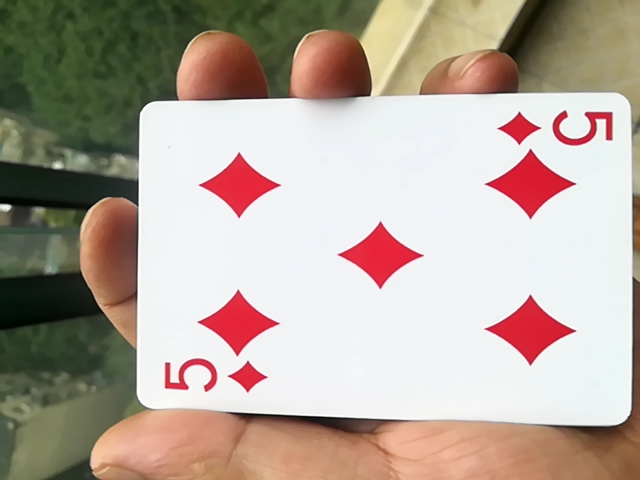fk 5: (121, 97, 633, 435)
